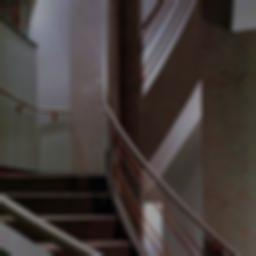Escaleras: (3, 175, 148, 254)
